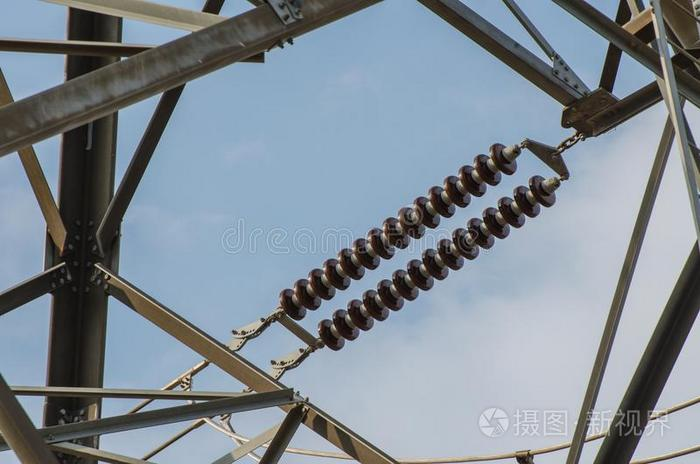insulator: (318, 176, 559, 351), (280, 140, 517, 315)
